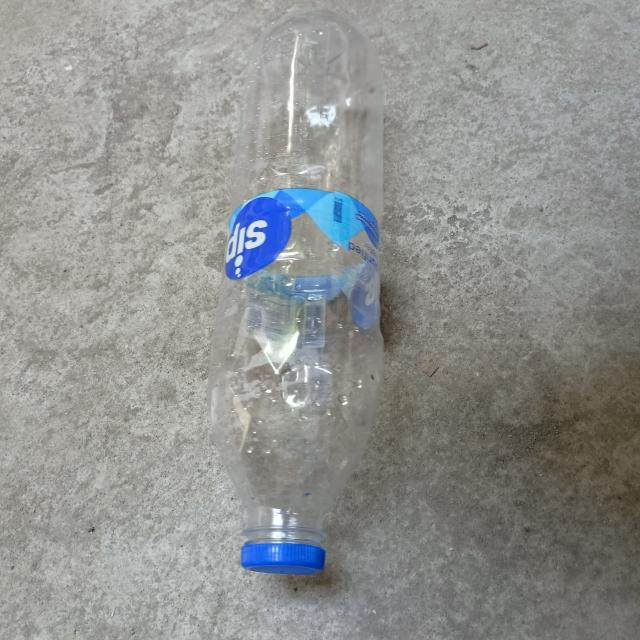Bottle: (207, 11, 383, 574)
